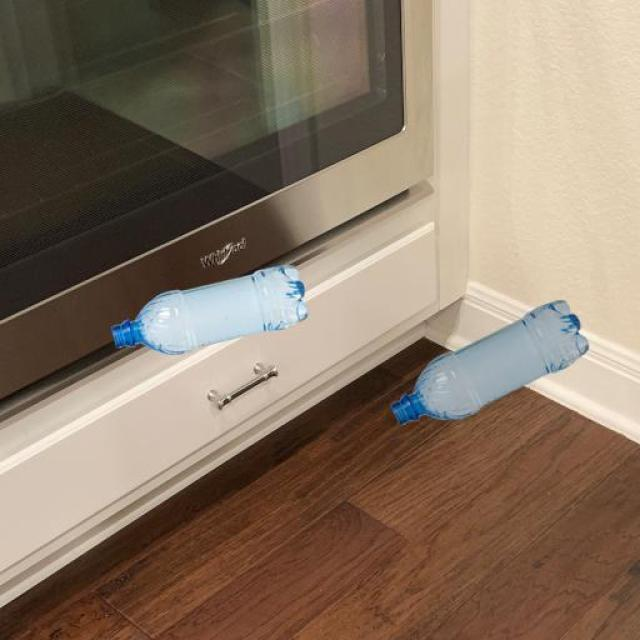bottle: (389, 298, 589, 427), (109, 262, 309, 356)
